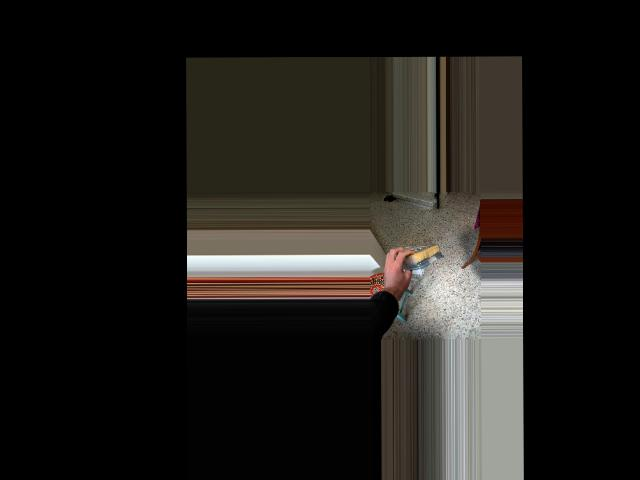cheese: (384, 244, 446, 272)
